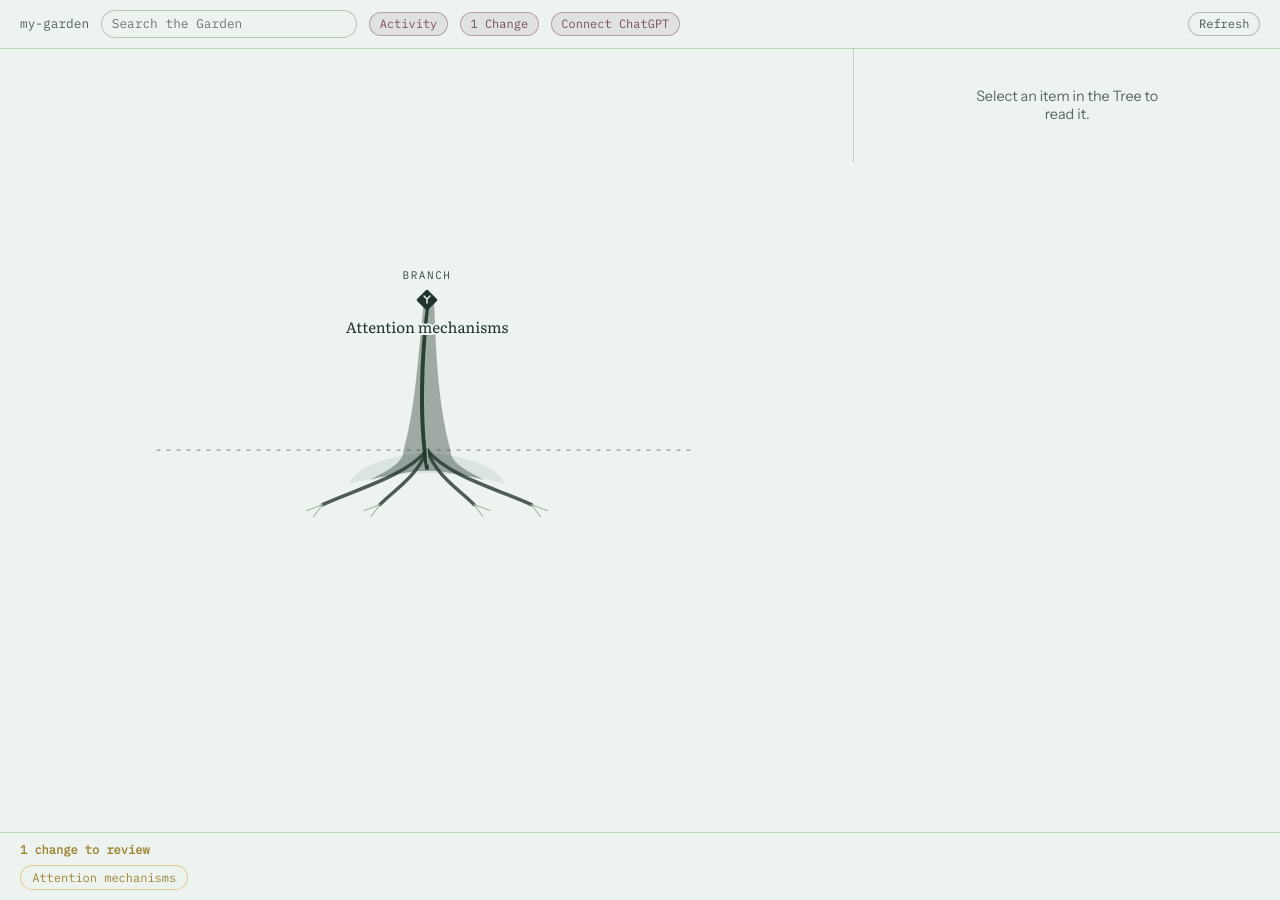
Test: approving a change › writes the file and removes the change from the tray
The width and height of the screenshot is (1280, 900).
expect the element named "change tray" is shown: met, box [0, 832, 1279, 899]
Click the button "Attention mechanisms" at {"x": 104, "y": 878}, box [20, 865, 188, 890]
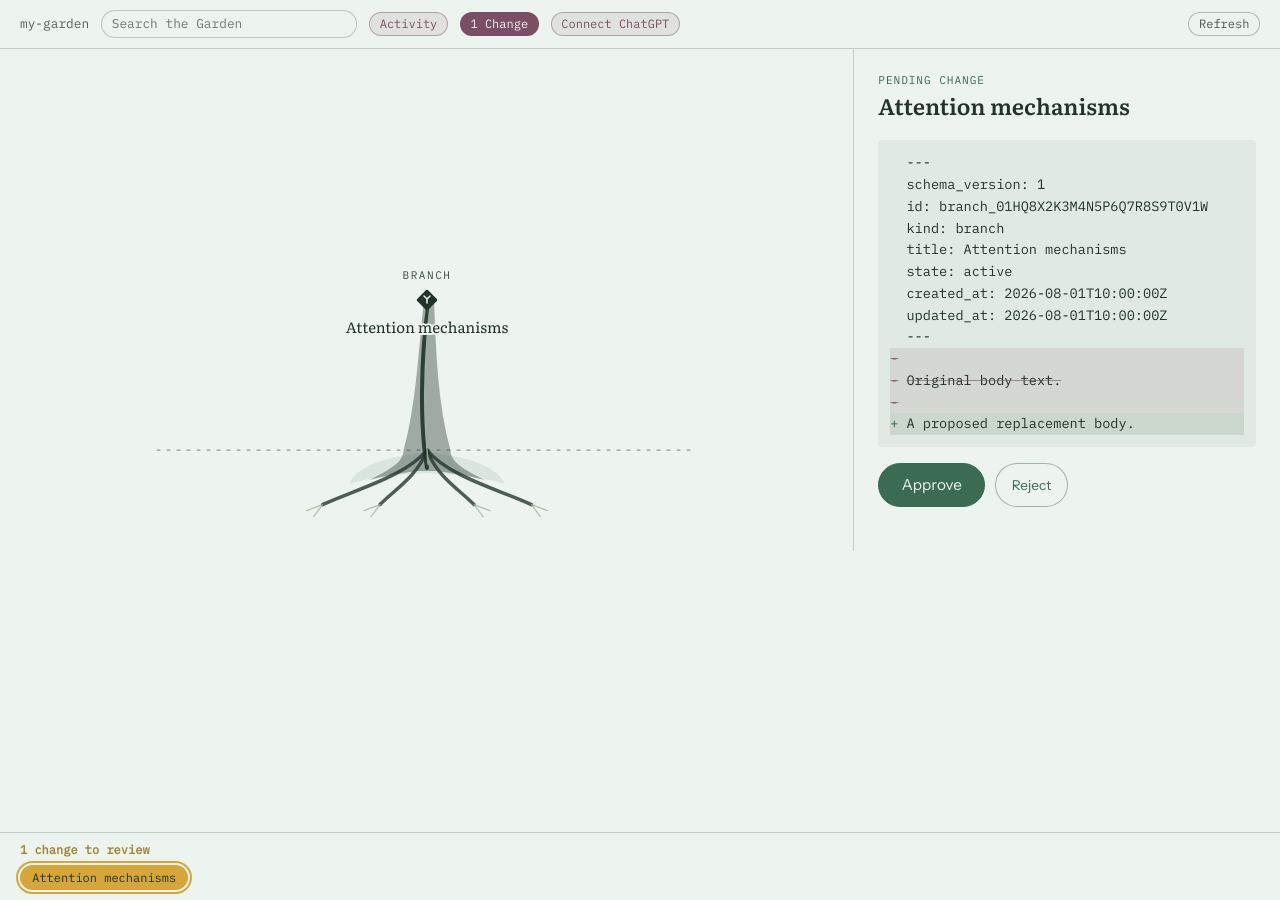
Click the button "Approve" at {"x": 932, "y": 485}, box [878, 463, 985, 506]
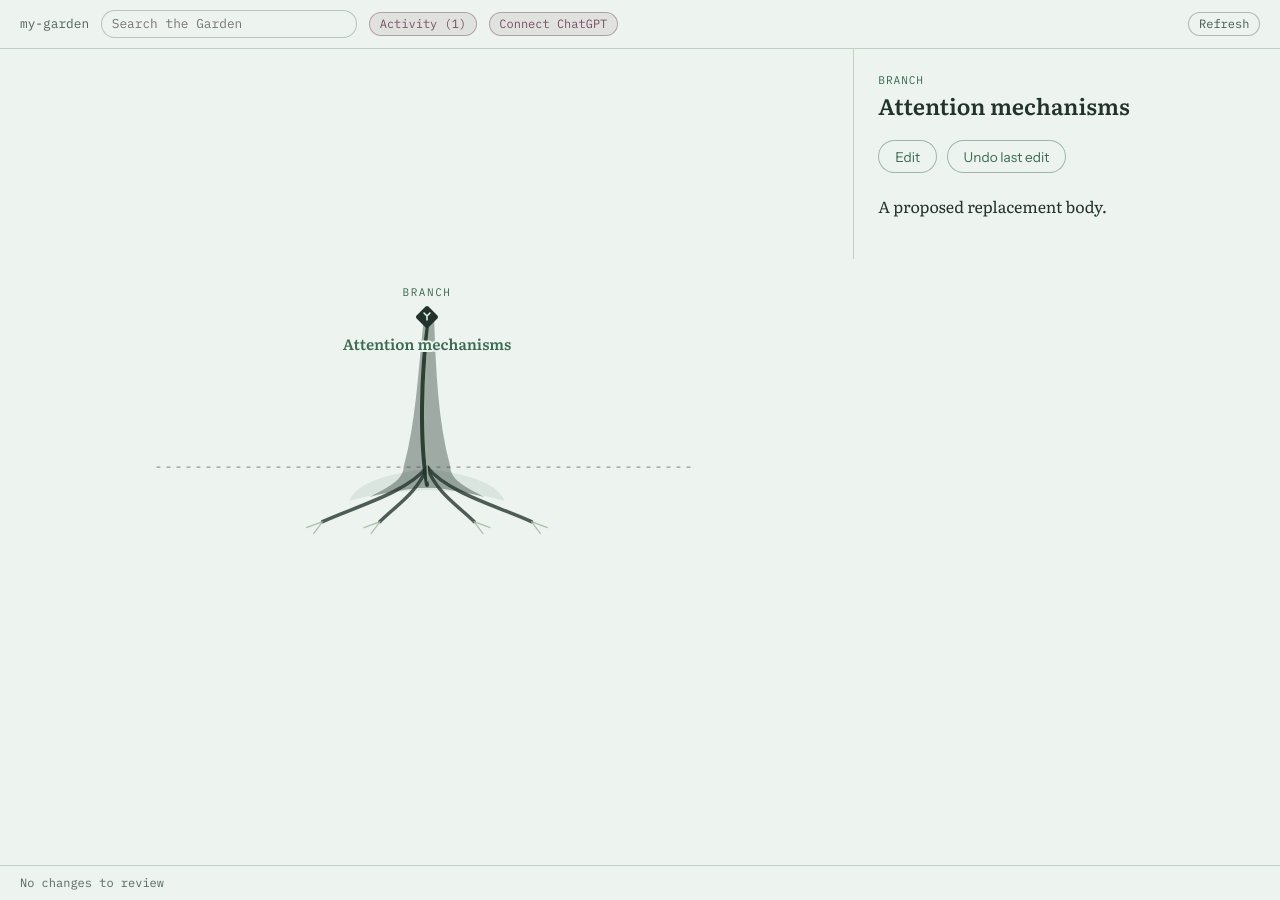
expect the text "No changes to review" is shown: met, box [0, 865, 1279, 899]
